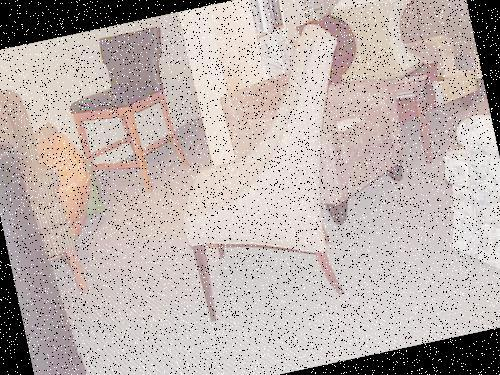Silla: (149, 19, 386, 323), (217, 56, 413, 241), (55, 23, 193, 202), (0, 74, 89, 308), (429, 108, 499, 302)
